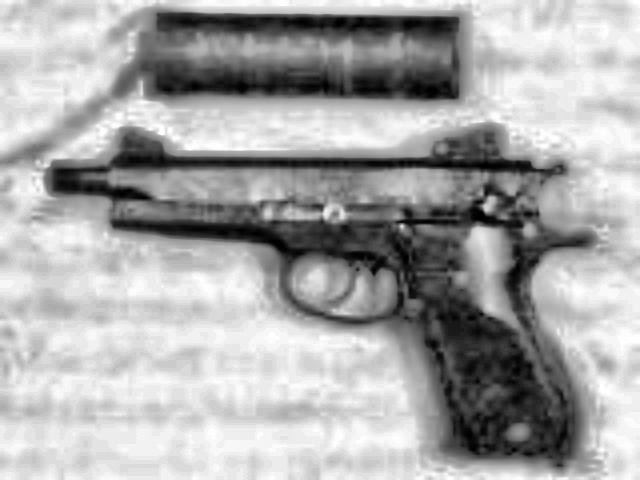pistol: (40, 112, 596, 476)
